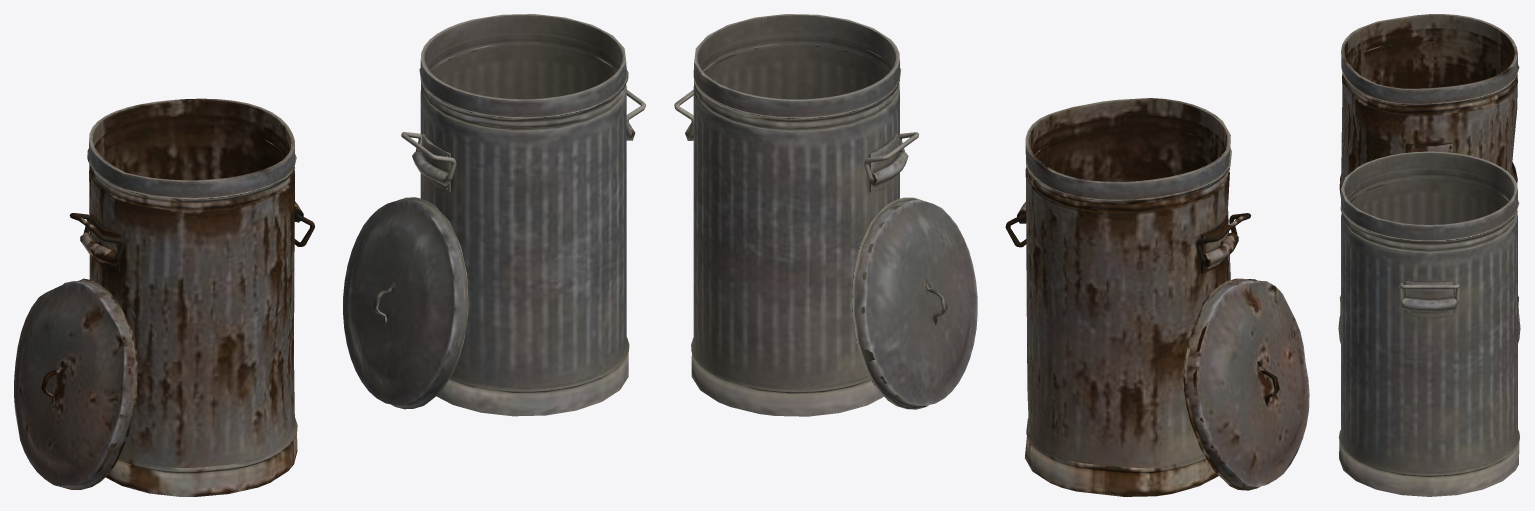
File: metal_trash_can.glb
3 renders of one model, left to right at view 1: azimuth 30°, elevation 25°; view 2: azimuth 150°, elevation 25°; view 3: azimuth 270°, elevation 25°, orthographic. The views are drawn at different scales.
Visible parts, largest first — view 1: metal_trash_can, metal_trash_can_rust, metal_trash_can_lid, metal_trash_can_rust_lid; view 2: metal_trash_can, metal_trash_can_rust, metal_trash_can_lid, metal_trash_can_rust_lid; view 3: metal_trash_can, metal_trash_can_rust, metal_trash_can_handle_right.
Part boxes in pixels (left/top/right/bottom): metal_trash_can: left=412, top=14, right=635, bottom=416; metal_trash_can_rust: left=80, top=98, right=303, bottom=496; metal_trash_can_lid: left=343, top=197, right=468, bottom=409; metal_trash_can_rust_lid: left=14, top=278, right=137, bottom=489; metal_trash_can: left=685, top=14, right=908, bottom=416; metal_trash_can_rust: left=1017, top=98, right=1238, bottom=496; metal_trash_can_lid: left=851, top=197, right=977, bottom=409; metal_trash_can_rust_lid: left=1183, top=278, right=1309, bottom=490; metal_trash_can: left=1338, top=151, right=1519, bottom=496; metal_trash_can_rust: left=1339, top=14, right=1519, bottom=316; metal_trash_can_handle_right: left=1399, top=283, right=1459, bottom=303.
Size of the model in its own units: 1.78 by 0.9062 by 0.5543.
3 materials, 3 textured.
